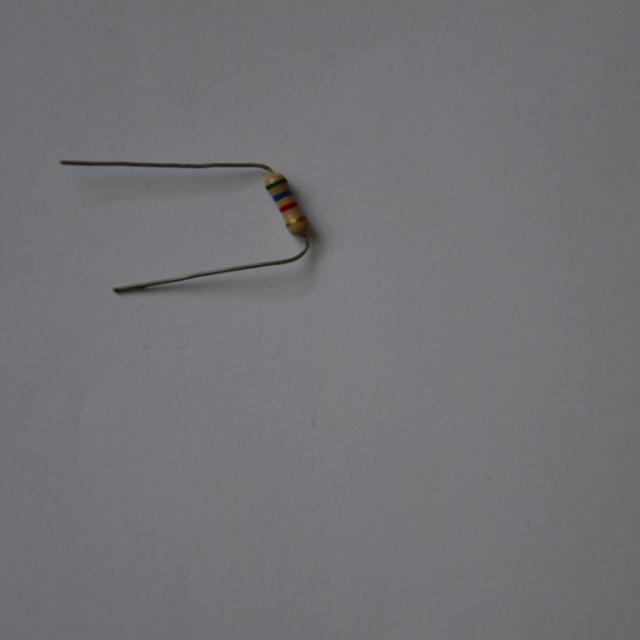blue: (272, 189, 291, 200)
gold: (285, 215, 304, 226)
green: (264, 176, 287, 189)
red: (280, 201, 298, 212)
